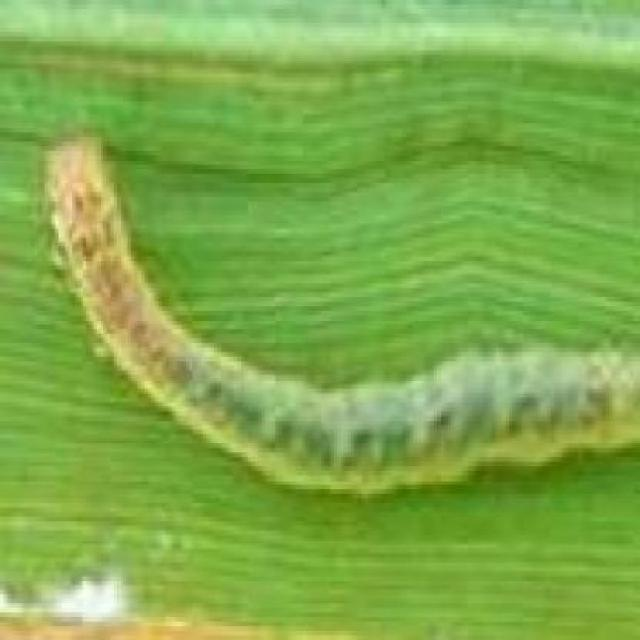leaf-folder: (37, 106, 640, 514)
